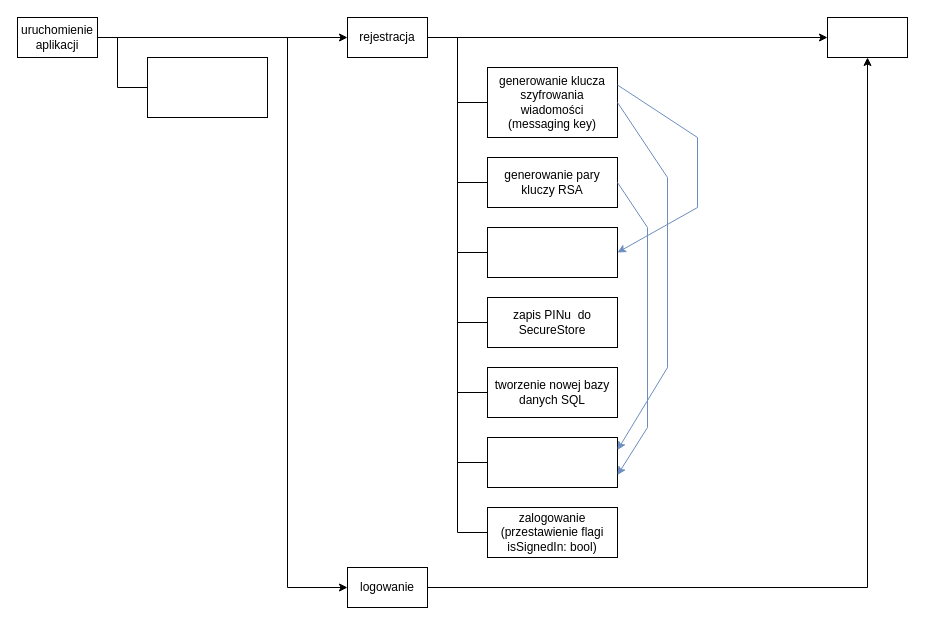
The diagram is 925 pixels wide and 625 high, and some of its shapes have lost their labels. Each missing label, with the centre of its shape:
"dodawanie profilu użytkownika do bazy danych" goes at point (552, 462).
"ekran czatów (chat rooms)" goes at point (867, 37).
"połączenie z serwerem backendu (websocket)" goes at point (207, 87).
"zapis pary kluczy RSA do MMKV storage" goes at point (552, 252).
